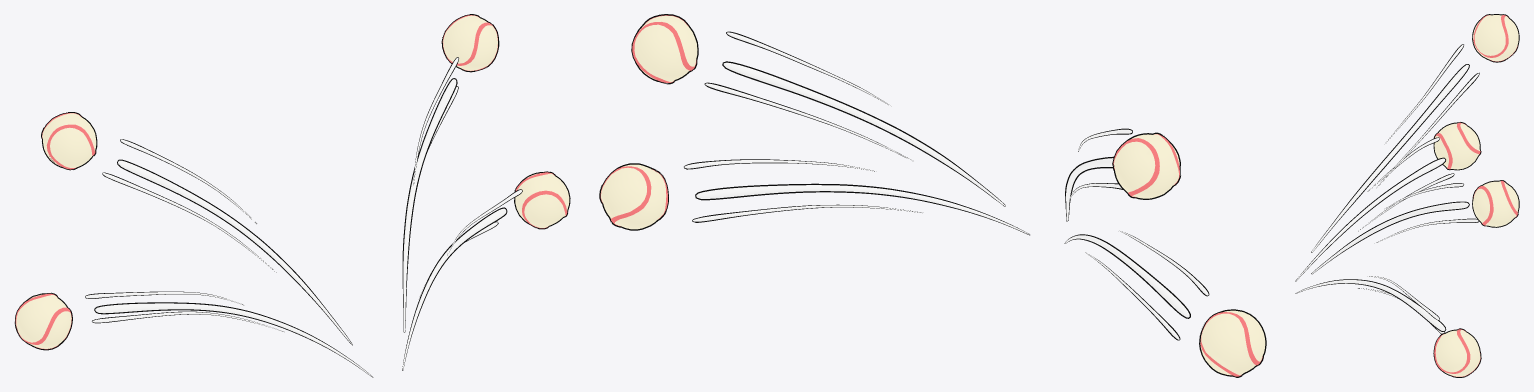
The model's file is BACK.SPORT.BASEBALL.glb.
3 views of the same model, side by side, from view 1: azimuth 30°, elevation 25°; view 2: azimuth 150°, elevation 25°; view 3: azimuth 270°, elevation 25° (orthographic). The views are drawn at different scales.
Parts seen in each view (by area): view 1: BACK.SPORT.BASEBALL; view 2: BACK.SPORT.BASEBALL; view 3: BACK.SPORT.BASEBALL.
Part boxes in pixels (<box>): BACK.SPORT.BASEBALL: <box>14,14,570,377</box>; BACK.SPORT.BASEBALL: <box>599,14,1266,377</box>; BACK.SPORT.BASEBALL: <box>1295,14,1519,377</box>.
Bounding box in the file's own units: 4.34 × 1.68 × 1.81.
